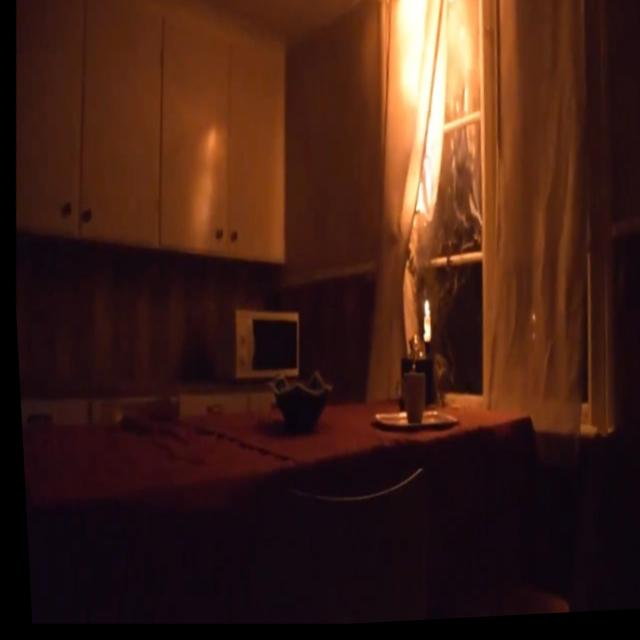fire: (362, 0, 484, 238), (418, 296, 428, 321)
